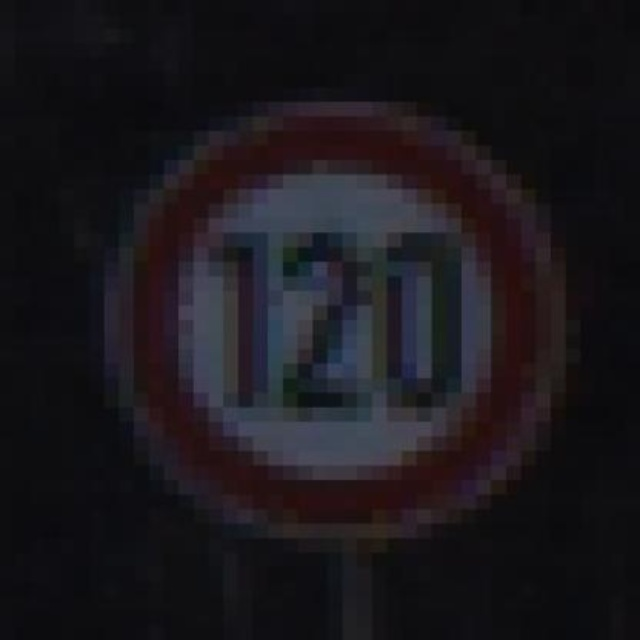Tốc độ tối đa cho phép 120km/h: (130, 111, 553, 531)
